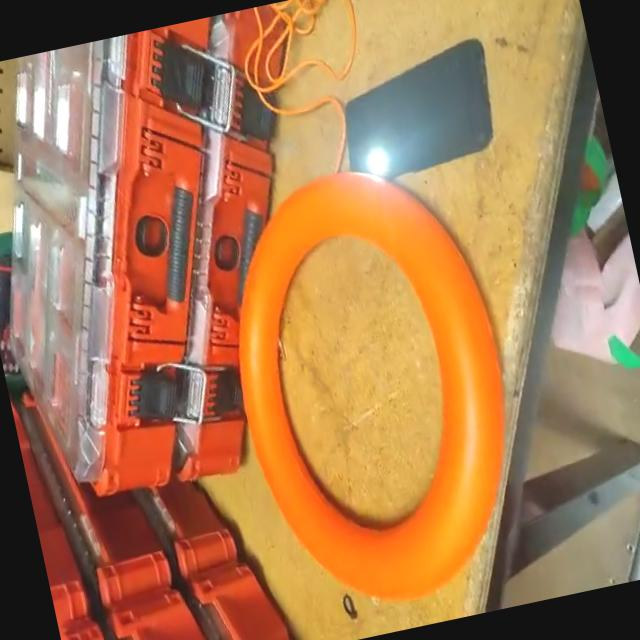note: (198, 143, 552, 628)
